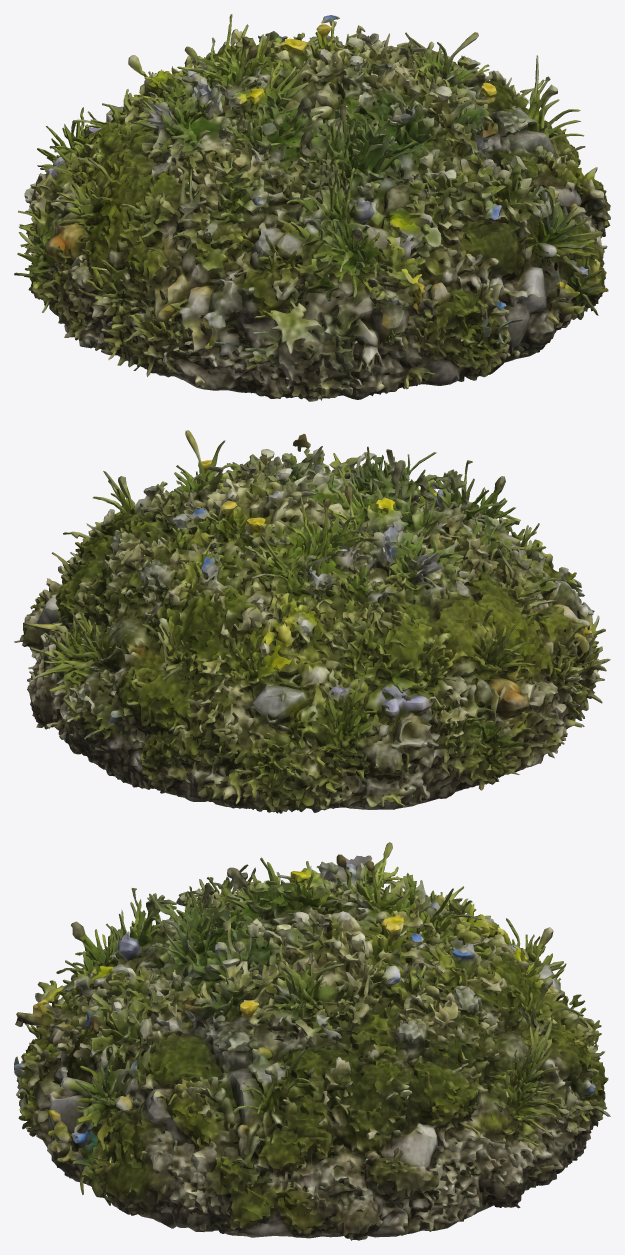
Rendered from alpine-turf-patch-v21.glb.
The picture shows the model from 3 angles, top to bottom: view 1: azimuth 30°, elevation 25°; view 2: azimuth 150°, elevation 25°; view 3: azimuth 270°, elevation 25°; orthographic projection. The views are drawn at different scales.
Parts seen in each view (by area): view 1: geometry_0; view 2: geometry_0; view 3: geometry_0.
Boxes of the visible parts, x1,y1,x2,y2 form: geometry_0: [14, 14, 610, 401]; geometry_0: [14, 430, 610, 813]; geometry_0: [14, 842, 610, 1240].
Size of the model in its own units: 0.3 by 0.1459 by 0.2998.
1 material, 1 textured.
